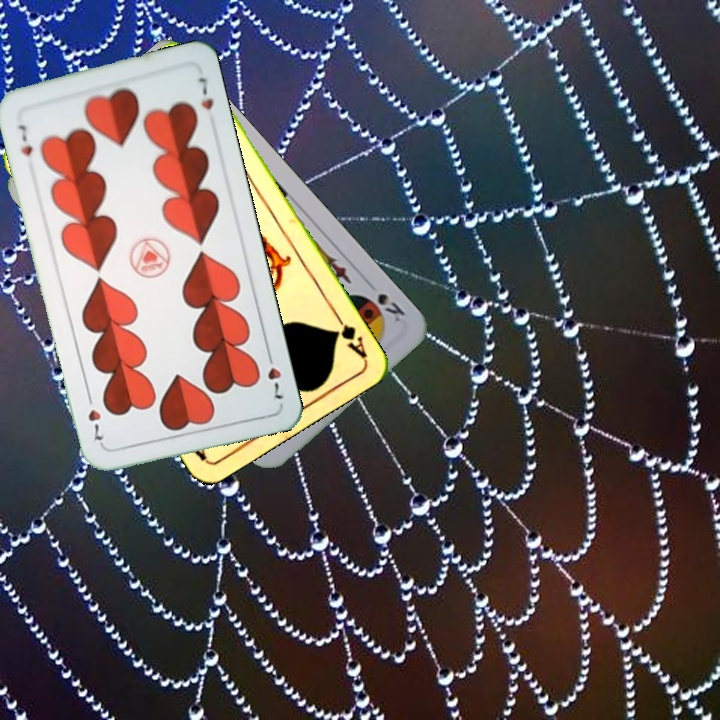GA: (330, 308, 370, 361)
H7: (263, 347, 286, 404), (14, 121, 35, 159)
SK: (373, 289, 408, 325)
